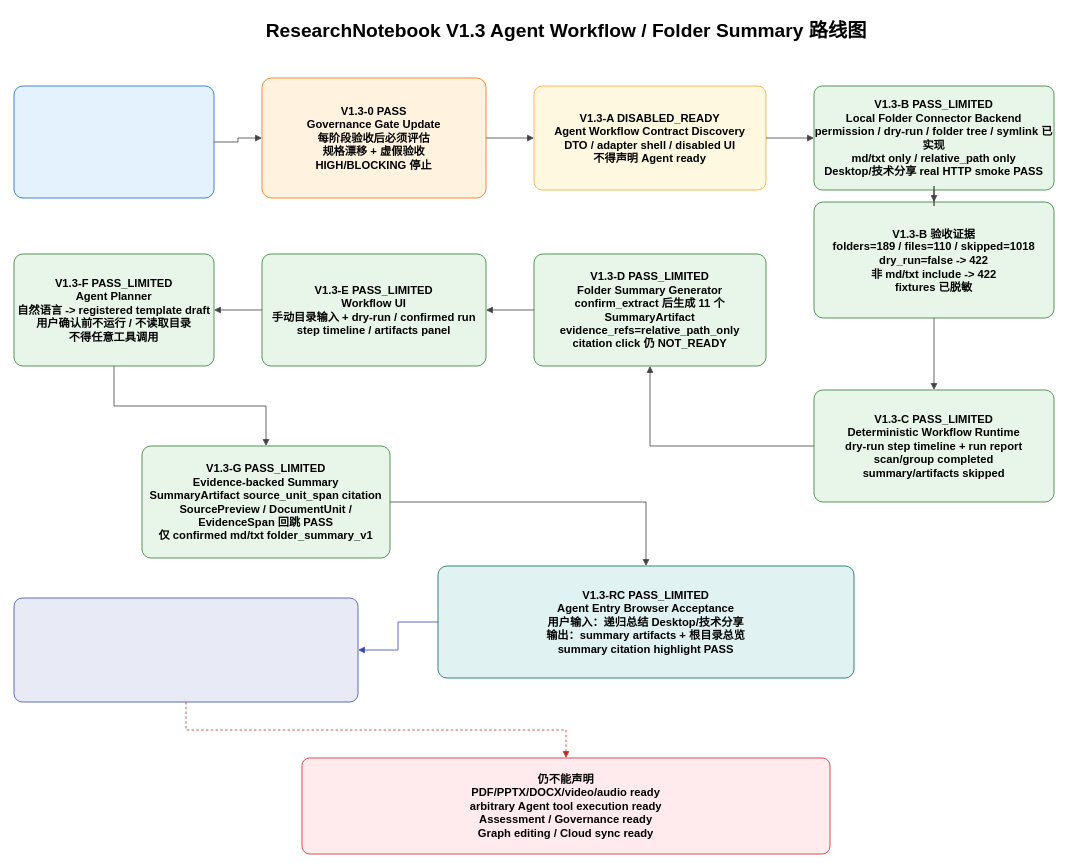
Some shapes in this 1068 by 868 pixel diagram are drawn without their labels. The shapes that lost their labels are listed below. From the top down, each one's box as (x1, y1, x2, y2) in pixels, then its label:
(13, 85, 214, 198): 当前基线 Source Preview PASS DocumentUnit PASS EvidenceSpan PASS_LIMITED V1.2 手工验收跳过
(13, 597, 358, 702): PRD 对齐 PASS_LIMITED 中文化和开发态文案清理 Agent 入口任务导向 证据状态更清晰 PRD 原文仍需二次审计
